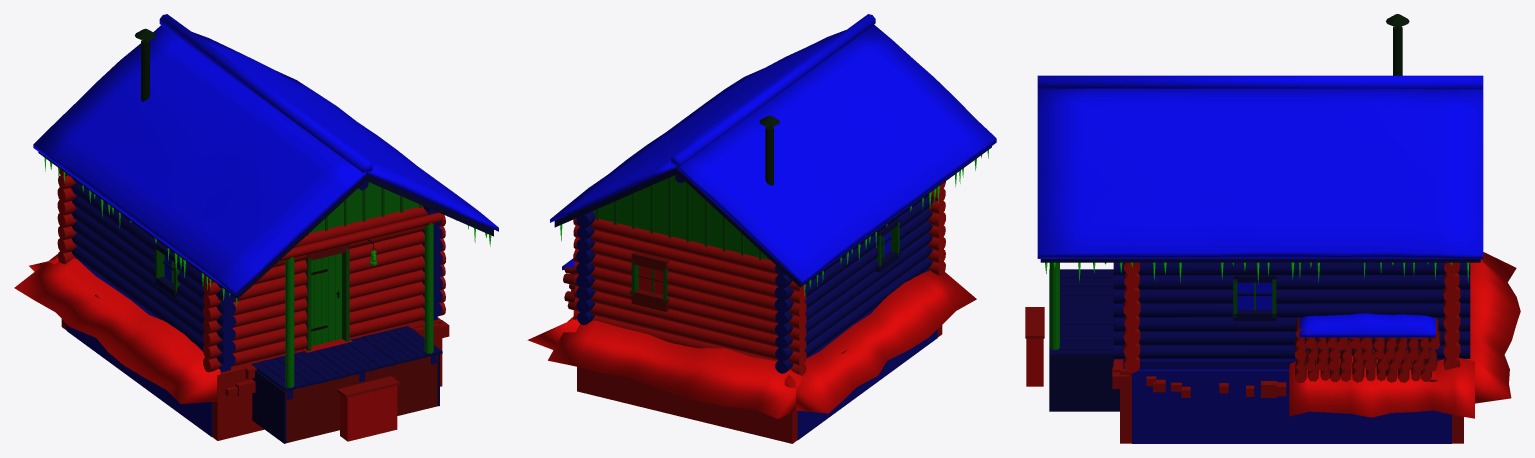
The model's file is cabin.glb.
3 renders of one model, left to right at view 1: azimuth 30°, elevation 25°; view 2: azimuth 150°, elevation 25°; view 3: azimuth 270°, elevation 25°, orthographic. The views are drawn at different scales.
Visible parts, largest first — view 1: cabin, cabin_door; view 2: cabin; view 3: cabin.
Part boxes in pixels (x1,y1,x2,y2): cabin: (14,14,498,443); cabin_door: (311,253,341,346); cabin: (527,14,996,443); cabin: (1025,14,1520,443).
Size of the model in its own units: 6.99 by 6.5 by 8.67.
